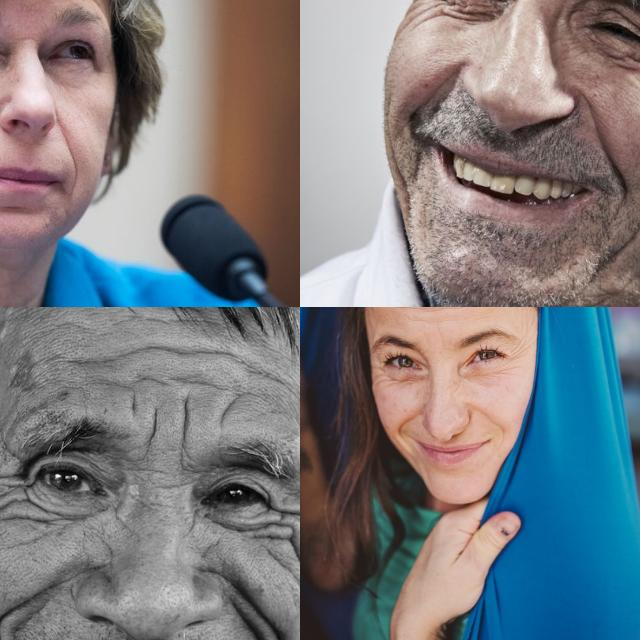crows_feet: (266, 502, 300, 563), (0, 460, 30, 514), (366, 360, 392, 388), (414, 0, 446, 13)
forehead: (110, 325, 234, 369), (246, 346, 284, 394), (172, 368, 232, 396), (57, 348, 109, 372), (128, 364, 168, 394), (402, 307, 455, 323), (212, 398, 240, 428), (119, 390, 143, 416)
frown_line: (178, 406, 196, 456), (144, 406, 164, 444)
gummy_smile: (224, 583, 283, 640), (0, 588, 48, 637), (582, 105, 620, 161), (60, 125, 82, 173), (476, 402, 506, 436), (388, 410, 424, 438)
masseter: (608, 213, 640, 267)
